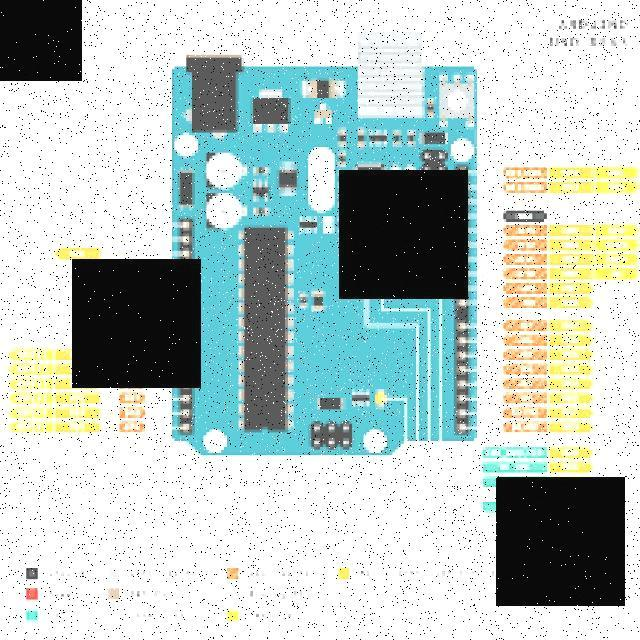arduino: (168, 53, 485, 467)
